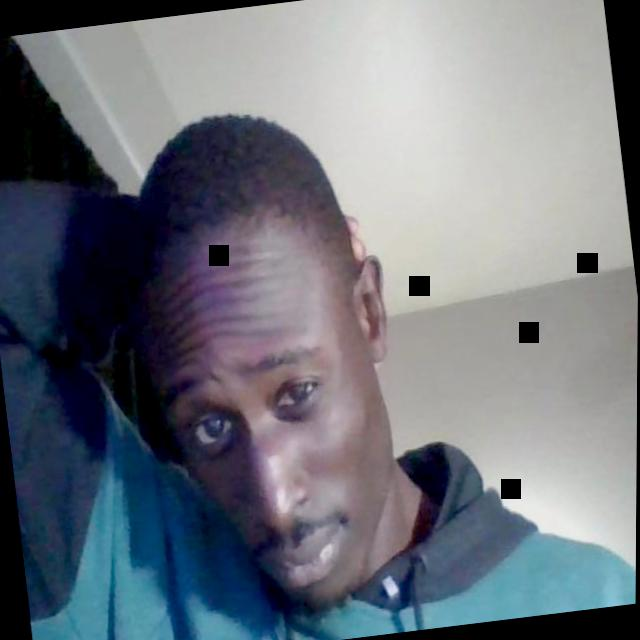NO-Mask: (139, 269, 413, 632)
